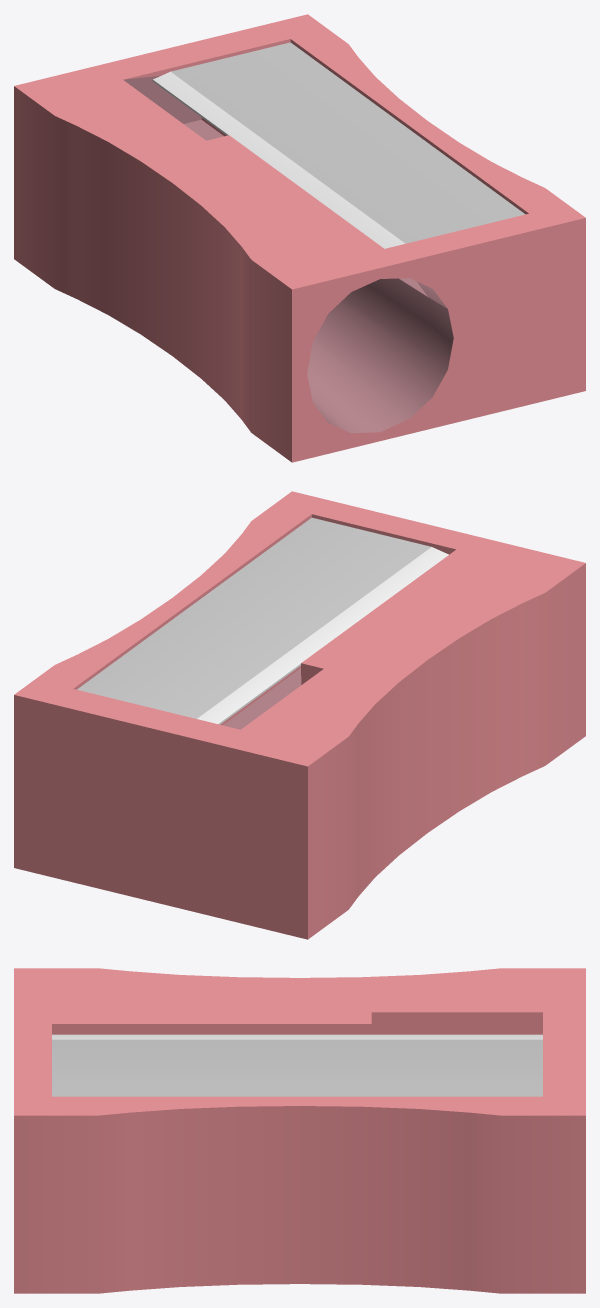
The model's file is 연필깎기.fbx.
The picture shows the model from 3 angles, top to bottom: view 1: azimuth 30°, elevation 25°; view 2: azimuth 150°, elevation 25°; view 3: azimuth 270°, elevation 25°; orthographic projection. The views are drawn at different scales.
Visible parts, largest first — view 1: sharpener_plastic; view 2: sharpener_plastic; view 3: sharpener_plastic.
Part boxes in pixels (x1,y1,x2,y2): sharpener_plastic: (14,14,585,462); sharpener_plastic: (14,491,585,939); sharpener_plastic: (14,968,585,1293).
Bounding box in the file's own units: 228 × 128 × 374.
